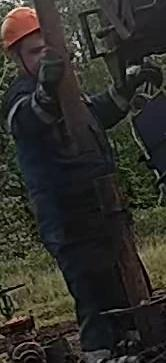gloves: (110, 62, 163, 107), (33, 55, 67, 111)
helmet: (0, 6, 40, 51)
vest: (5, 72, 152, 253)
